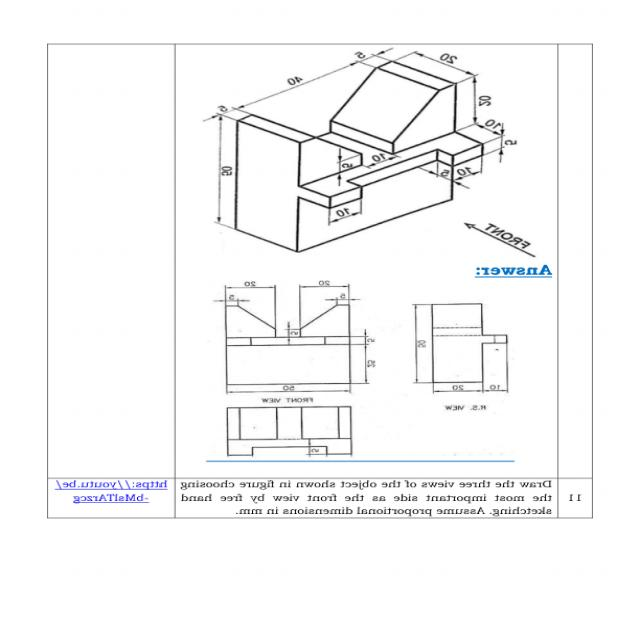Drawings: (197, 46, 524, 256), (204, 276, 380, 396), (404, 297, 518, 396), (221, 403, 363, 459)
